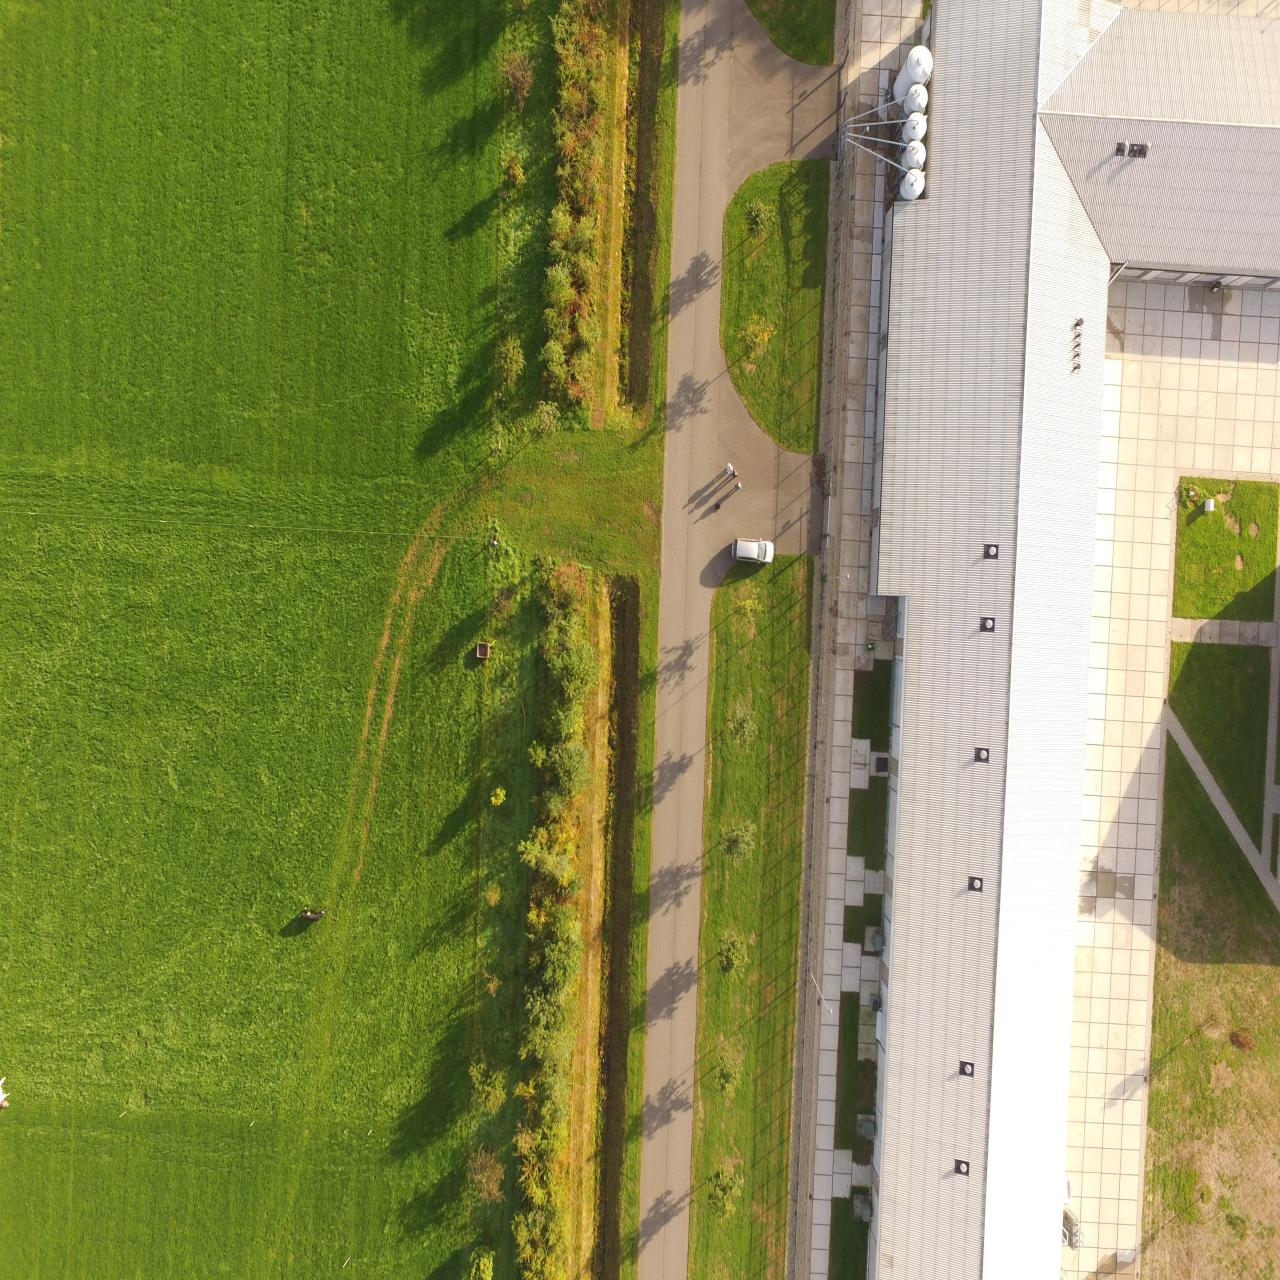cow: (298, 906, 327, 921), (0, 1075, 11, 1108)
